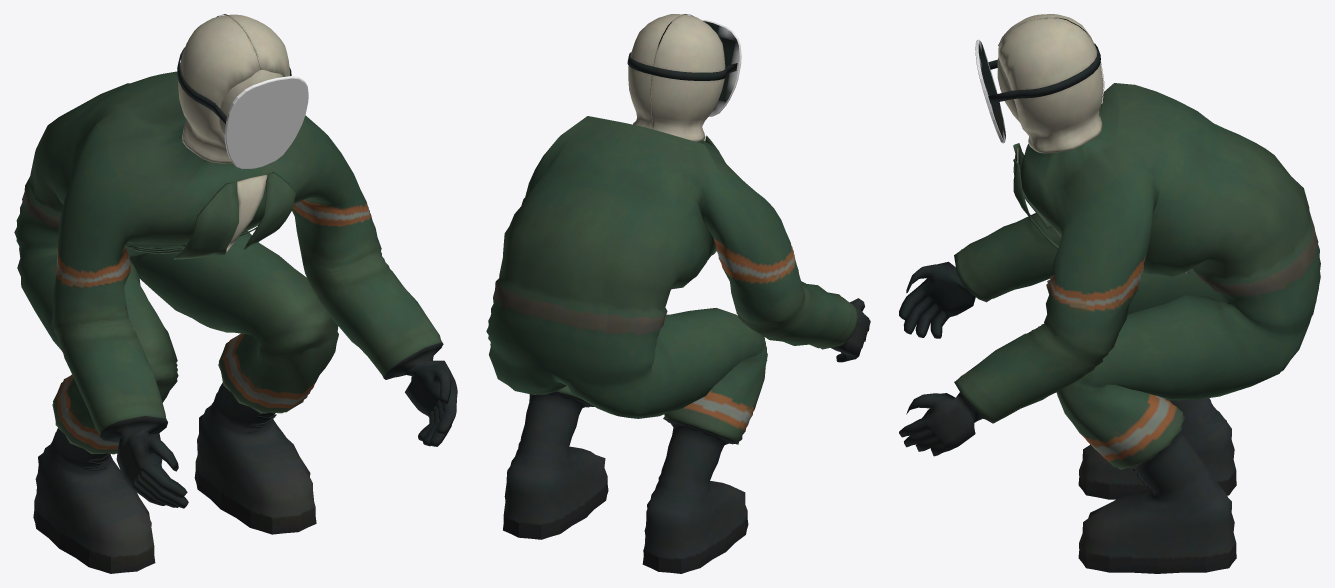
The model's file is printed_player_crouching.glb.
The picture shows the model from 3 angles, left to right: view 1: azimuth 30°, elevation 25°; view 2: azimuth 150°, elevation 25°; view 3: azimuth 270°, elevation 25°; orthographic projection. The views are drawn at different scales.
Parts seen in each view (by area): view 1: PLAYER_Mesh, PLAYER_Skin_Hood, PLAYER_Skin_Mask, PLAYER_Skin_Collar, PLAYER_Skin_Undershirt, PLAYER_Skin_Hood_Lining, PLAYER_Skin_MaskStrap; view 2: PLAYER_Mesh, PLAYER_Skin_Hood, PLAYER_Skin_Mask, PLAYER_Skin_MaskStrap; view 3: PLAYER_Mesh, PLAYER_Skin_Hood, PLAYER_Skin_MaskStrap, PLAYER_Skin_Mask, PLAYER_Skin_Collar.
Part boxes in pixels (bbox=[...]): PLAYER_Mesh: bbox=[14, 71, 457, 573]; PLAYER_Skin_Hood: bbox=[178, 14, 289, 163]; PLAYER_Skin_Mask: bbox=[224, 76, 308, 169]; PLAYER_Skin_Collar: bbox=[174, 172, 295, 259]; PLAYER_Skin_Undershirt: bbox=[226, 174, 267, 251]; PLAYER_Skin_Hood_Lining: bbox=[219, 70, 282, 135]; PLAYER_Skin_MaskStrap: bbox=[177, 47, 291, 123]; PLAYER_Mesh: bbox=[486, 116, 870, 573]; PLAYER_Skin_Hood: bbox=[628, 14, 725, 141]; PLAYER_Skin_Mask: bbox=[701, 19, 741, 116]; PLAYER_Skin_MaskStrap: bbox=[627, 52, 737, 80]; PLAYER_Mesh: bbox=[899, 83, 1320, 573]; PLAYER_Skin_Hood: bbox=[998, 14, 1103, 153]; PLAYER_Skin_MaskStrap: bbox=[988, 43, 1100, 103]; PLAYER_Skin_Mask: bbox=[975, 39, 1005, 143]; PLAYER_Skin_Collar: bbox=[1013, 143, 1058, 248].
Size of the model in its own units: 0.6706 by 1.03 by 0.778.
Materials: 5 (4 with a texture image).
